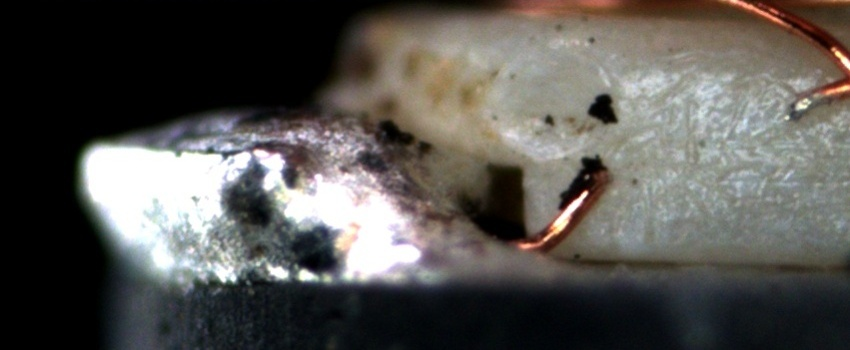DL: (615, 63, 849, 95), (648, 169, 849, 200)
